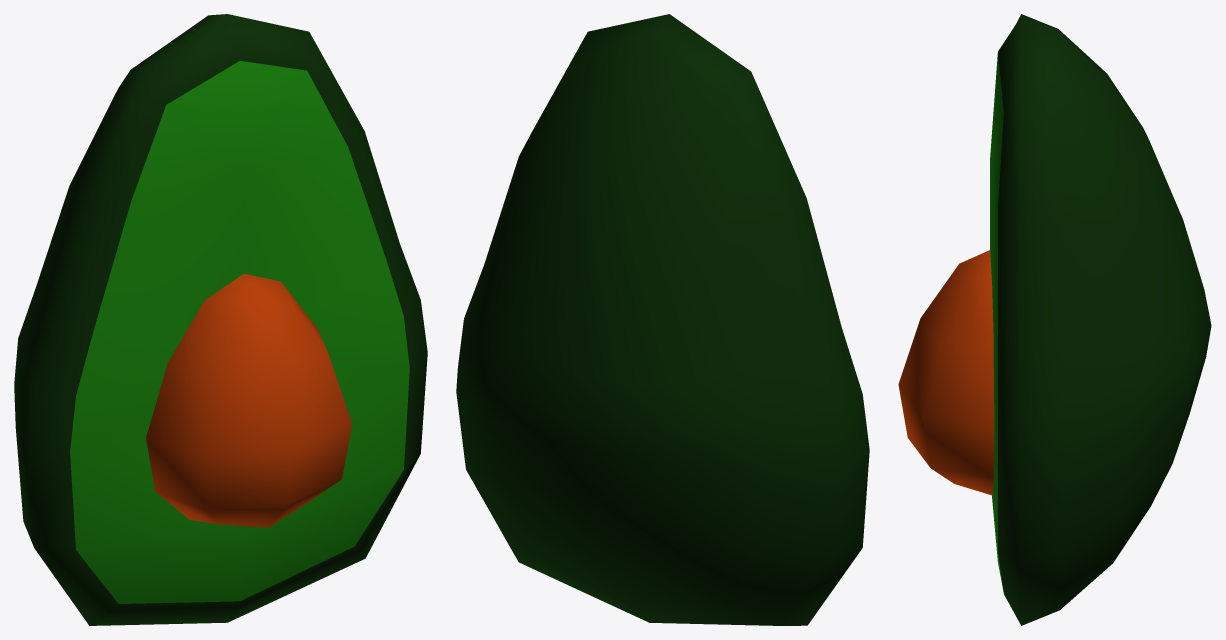
File: Avokado.fbx
3 renders of one model, left to right at view 1: azimuth 30°, elevation 25°; view 2: azimuth 150°, elevation 25°; view 3: azimuth 270°, elevation 25°, orthographic. The views are drawn at different scales.
Parts seen in each view (by area): view 1: Avocado; view 2: Avocado; view 3: Avocado.
Part boxes in pixels (x1,y1,x2,y2): Avocado: (14, 14, 427, 625); Avocado: (456, 14, 869, 625); Avocado: (898, 14, 1211, 625).
Size of the model in its own units: 1.15 by 1.66 by 0.8206.
